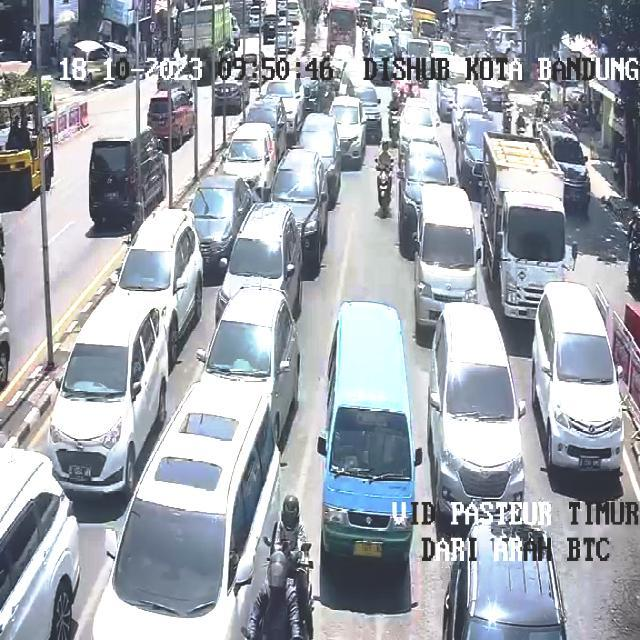bus: (328, 0, 356, 53)
car: (92, 380, 281, 640), (48, 294, 169, 493), (428, 304, 525, 536), (531, 282, 624, 472), (200, 288, 300, 446), (0, 449, 79, 639), (442, 525, 566, 639), (116, 209, 202, 369), (414, 185, 481, 341), (218, 202, 302, 322), (89, 128, 165, 233), (271, 149, 328, 279), (399, 141, 450, 259), (190, 175, 254, 263), (541, 122, 591, 214), (222, 122, 278, 196), (299, 112, 341, 209), (456, 112, 496, 201), (265, 74, 304, 146), (69, 40, 130, 86), (245, 96, 288, 158), (330, 96, 366, 169), (246, 96, 288, 157), (398, 98, 440, 159), (180, 5, 232, 53), (451, 84, 485, 139), (354, 84, 380, 143), (171, 89, 194, 149), (148, 91, 169, 151), (215, 81, 249, 115), (304, 79, 338, 113)
lorry: (484, 132, 576, 319), (0, 96, 54, 212)
minivan: (318, 301, 422, 612)
motorcyclist: (245, 496, 311, 640), (375, 141, 394, 218)
